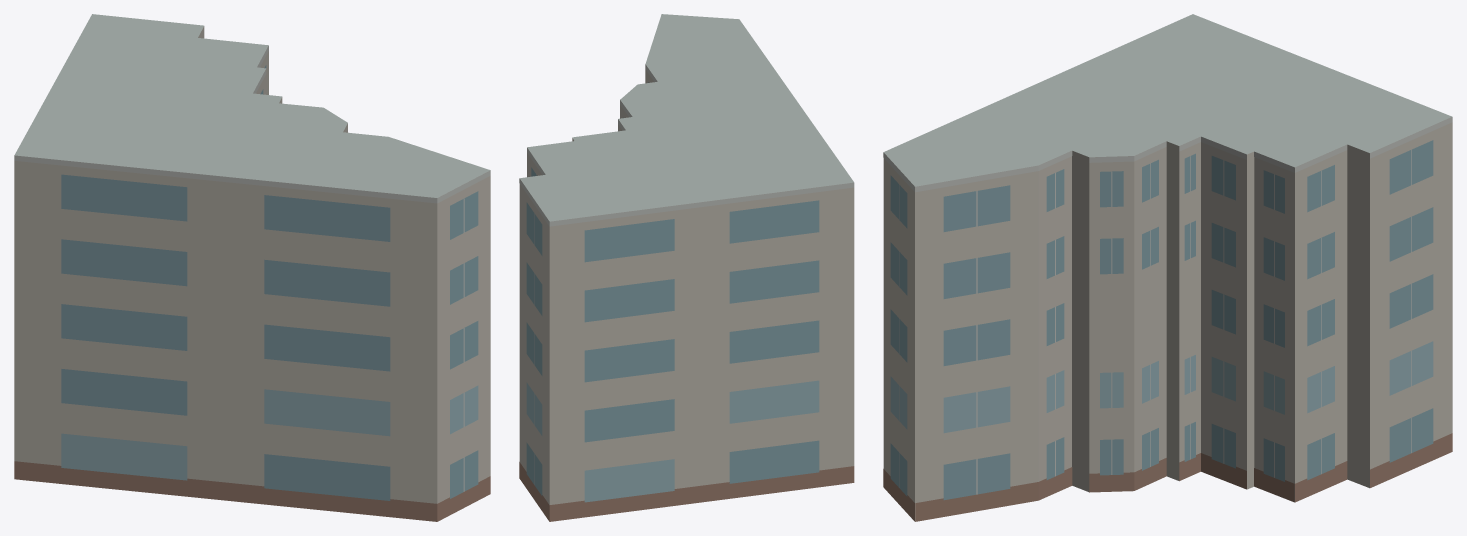
Rendered from survey-upis-32947682.glb.
The picture shows the model from 3 angles, left to right: view 1: azimuth 30°, elevation 25°; view 2: azimuth 150°, elevation 25°; view 3: azimuth 270°, elevation 25°; orthographic projection. The views are drawn at different scales.
Visible parts, largest first — view 1: survey-upis-32947682.tmp; view 2: survey-upis-32947682.tmp; view 3: survey-upis-32947682.tmp.
Boxes of the visible parts, x1=… form: survey-upis-32947682.tmp: x1=14, y1=14, x2=490, y2=521; survey-upis-32947682.tmp: x1=519, y1=14, x2=854, y2=521; survey-upis-32947682.tmp: x1=883, y1=14, x2=1452, y2=521.
Bounding box in the file's own units: 16.27 × 14.7 × 22.63.
